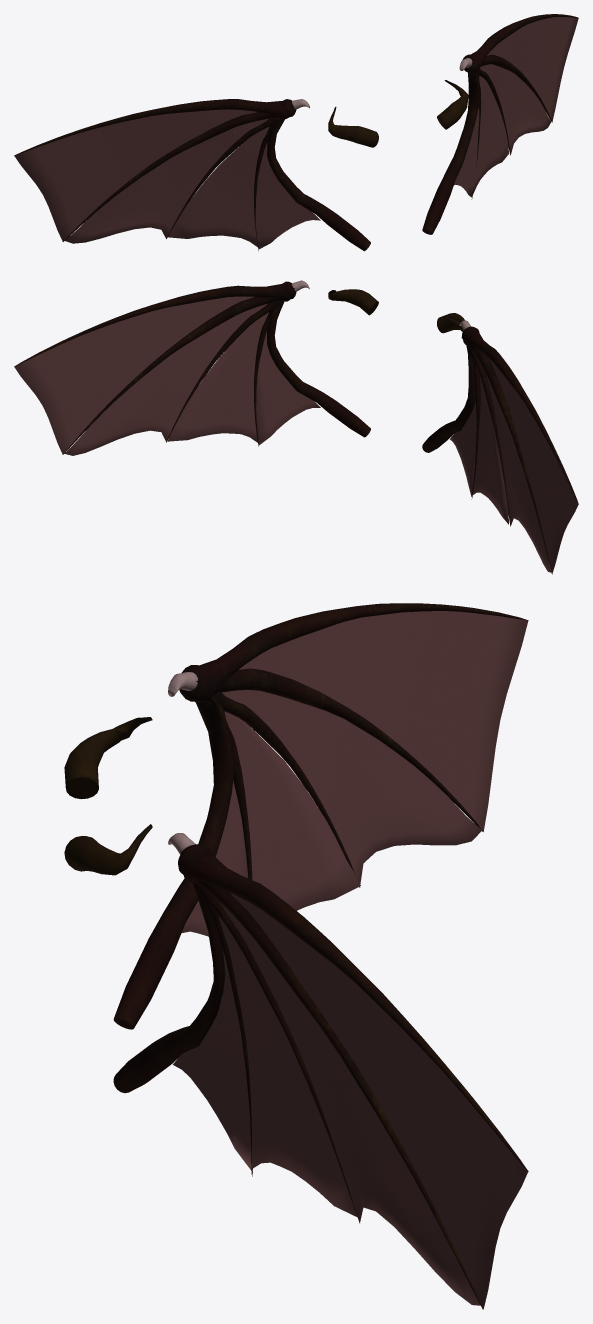
The model's file is devilwing.fbx.
The picture shows the model from 3 angles, top to bottom: view 1: azimuth 30°, elevation 25°; view 2: azimuth 150°, elevation 25°; view 3: azimuth 270°, elevation 25°; orthographic projection. The views are drawn at different scales.
Visible parts, largest first — view 1: devilwing; view 2: devilwing; view 3: devilwing.
Part boxes in pixels (x1=…): devilwing: x1=14, y1=14, x2=578, y2=251; devilwing: x1=14, y1=280, x2=578, y2=574; devilwing: x1=64, y1=603, x2=528, y2=1309.
Bounding box in the file's own units: 77.41 × 20.92 × 27.54.
